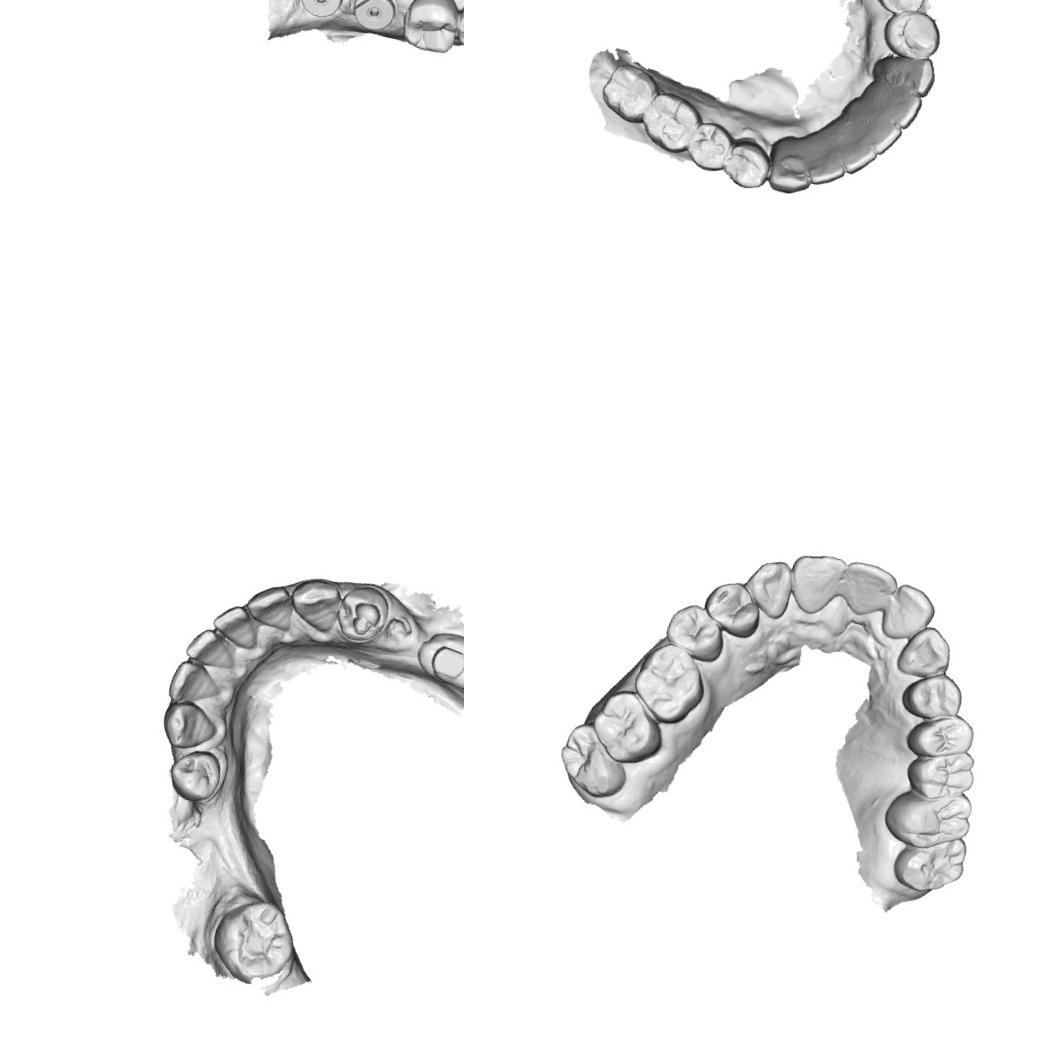canine: (892, 619, 958, 685), (156, 694, 224, 757), (738, 553, 798, 622), (868, 44, 940, 101), (761, 134, 818, 200), (286, 574, 346, 636)
implant: (345, 0, 402, 37), (292, 0, 348, 23)
incisor: (782, 546, 849, 620), (877, 580, 940, 648), (834, 557, 899, 622), (164, 657, 227, 712), (242, 579, 298, 634), (182, 624, 242, 672), (209, 600, 265, 651), (802, 137, 852, 191), (856, 113, 906, 160), (877, 86, 926, 132), (837, 134, 881, 180)
molar: (204, 890, 304, 994), (626, 636, 714, 732), (877, 777, 977, 858), (550, 716, 638, 806), (584, 684, 672, 771), (888, 825, 972, 901), (902, 739, 980, 807), (636, 87, 708, 159), (595, 57, 664, 128), (410, 624, 464, 695)
premolar: (902, 704, 979, 768), (660, 598, 731, 666), (698, 575, 768, 643), (332, 578, 396, 649), (898, 665, 968, 727), (878, 3, 946, 66), (164, 742, 228, 808), (397, 0, 464, 58), (720, 134, 776, 193), (684, 116, 738, 176), (868, 0, 931, 20)
